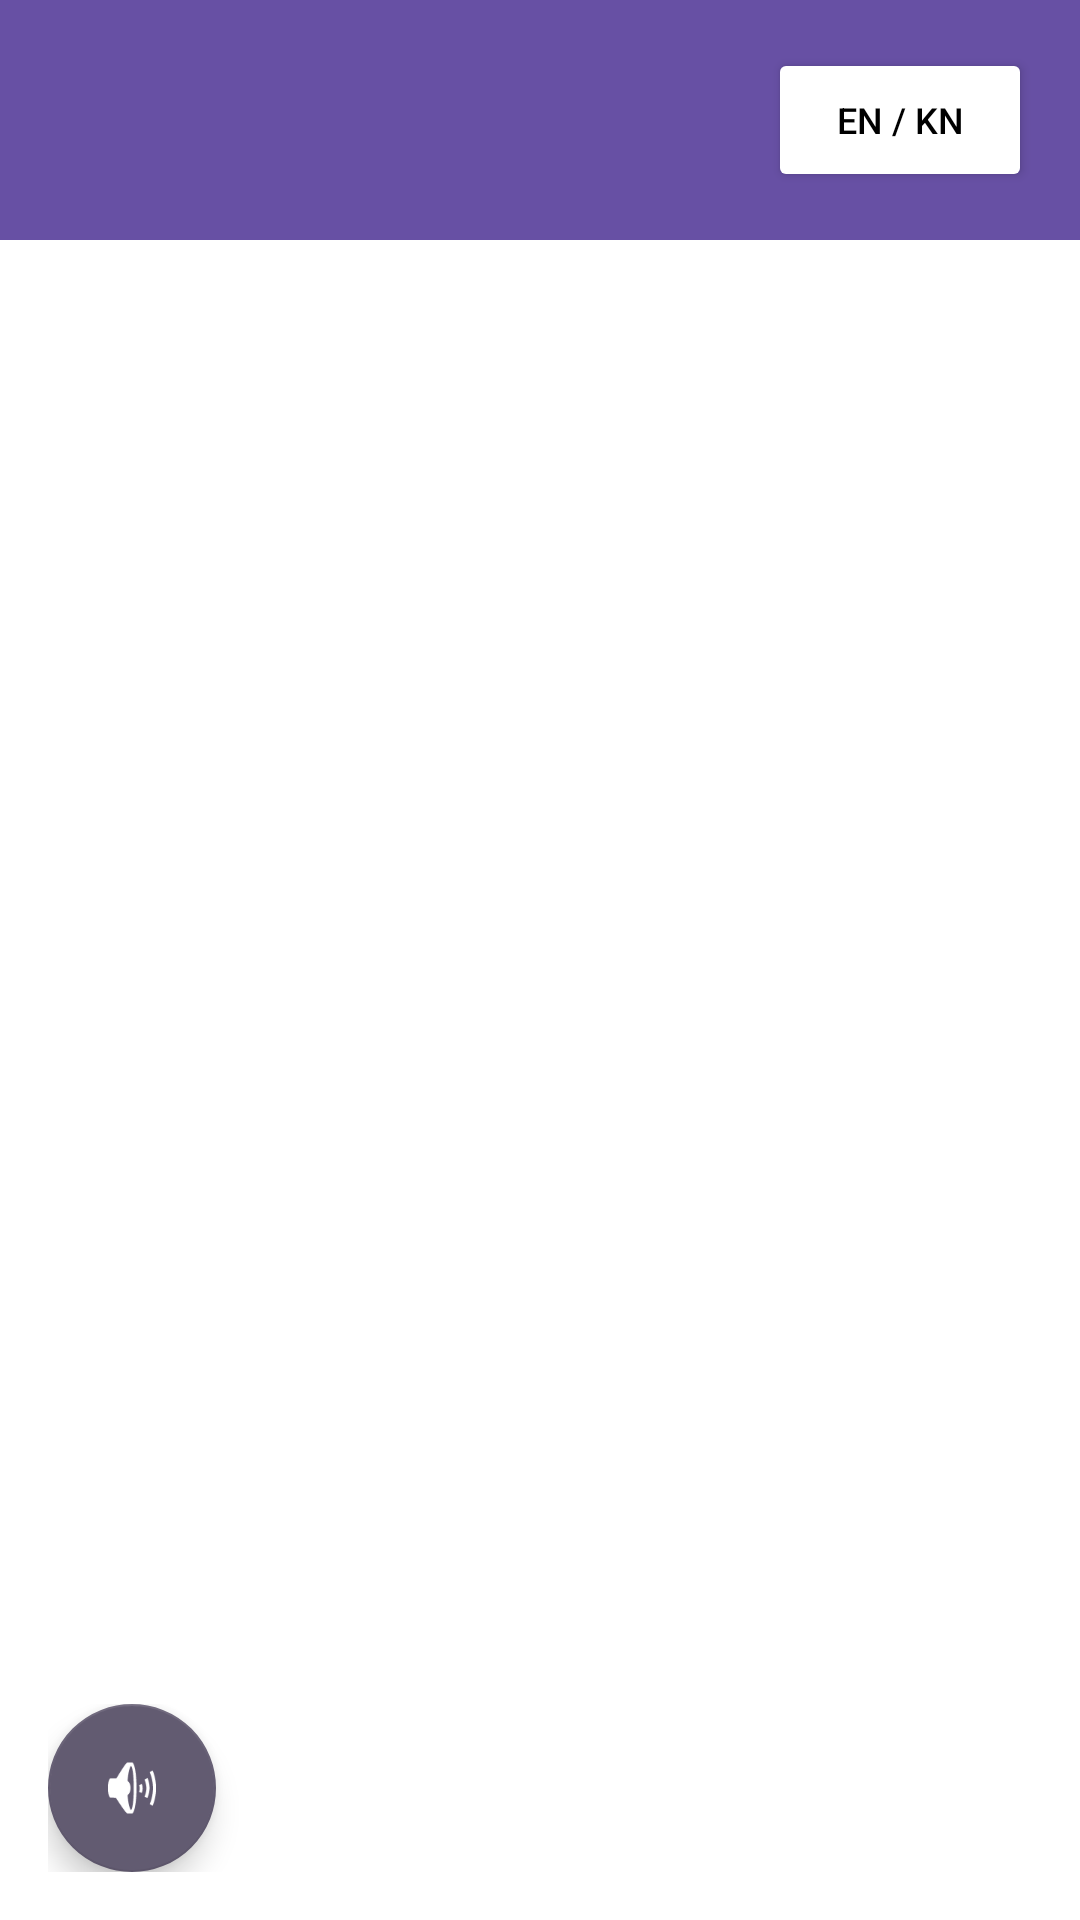

Where icons sit on this 1080*1920 app screen, as (x1, y1, x2, y2):
lock silent mode off: (48, 1704, 216, 1872)
